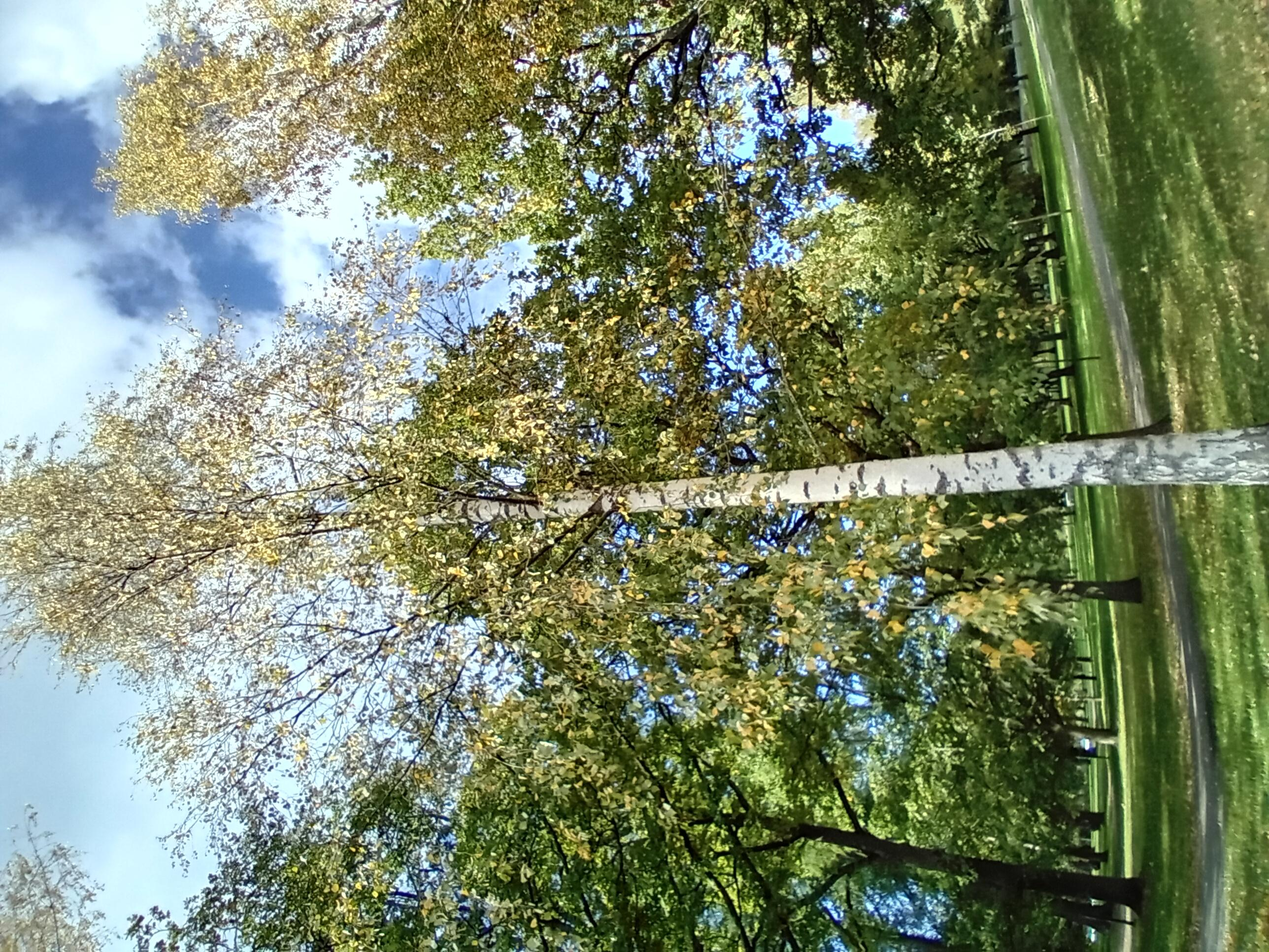Birch: (303, 0, 928, 952)
